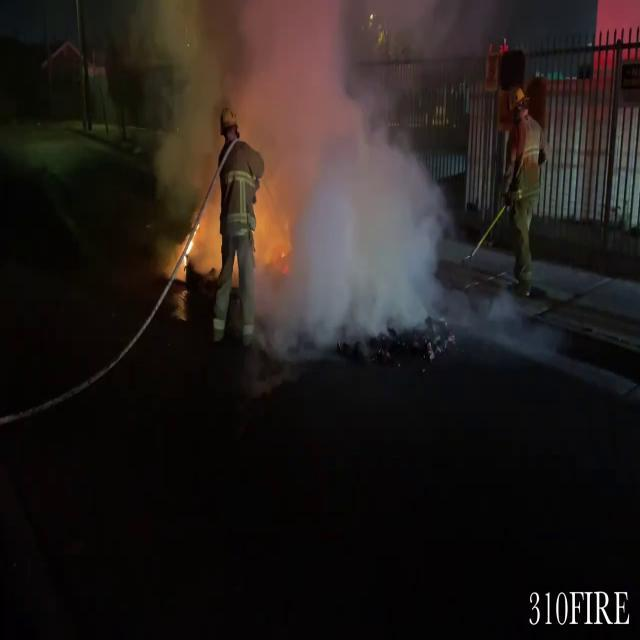Smoke: (134, 0, 446, 354)
